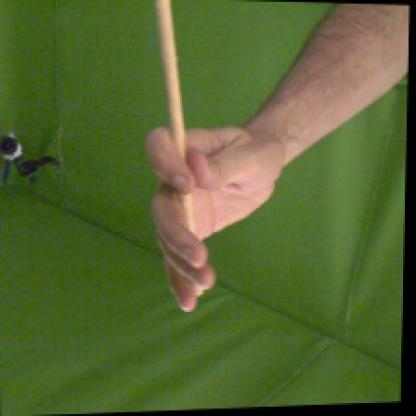Hand: (144, 124, 283, 312)
